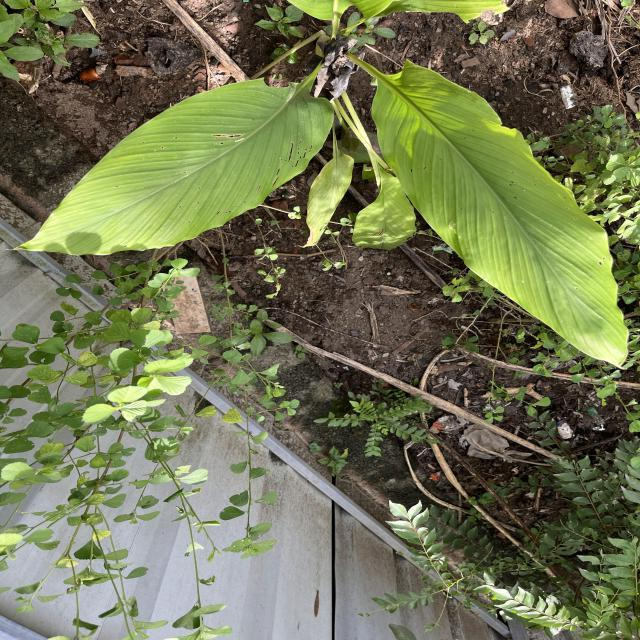Curcuma longa: (368, 58, 636, 380), (8, 73, 348, 265)
